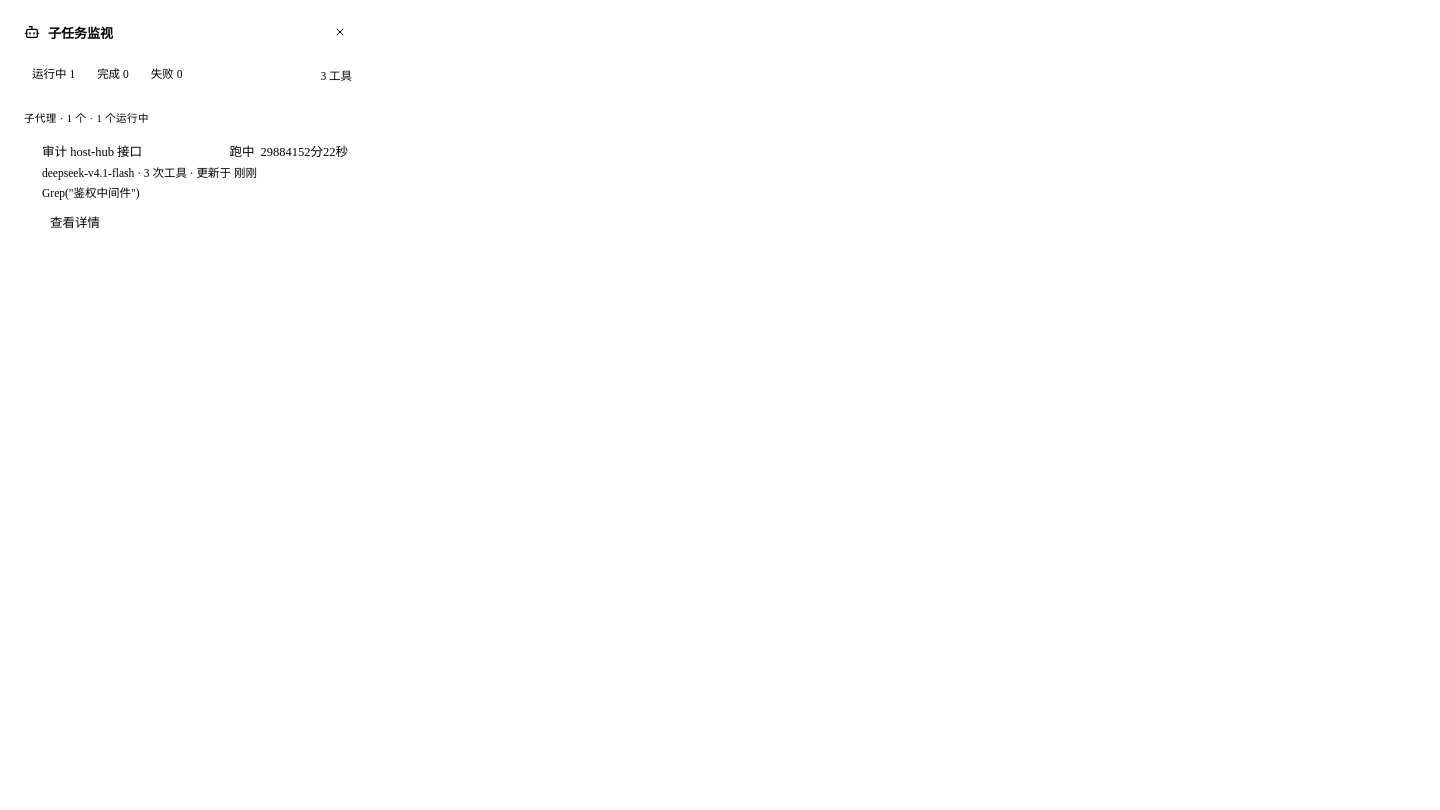
Test: 子任务监视面板 › 点一条打开运行情况弹窗
The image size is (1440, 810).
Click the button "审计 host-hub 接口" at (188, 172), box [24, 133, 352, 210]
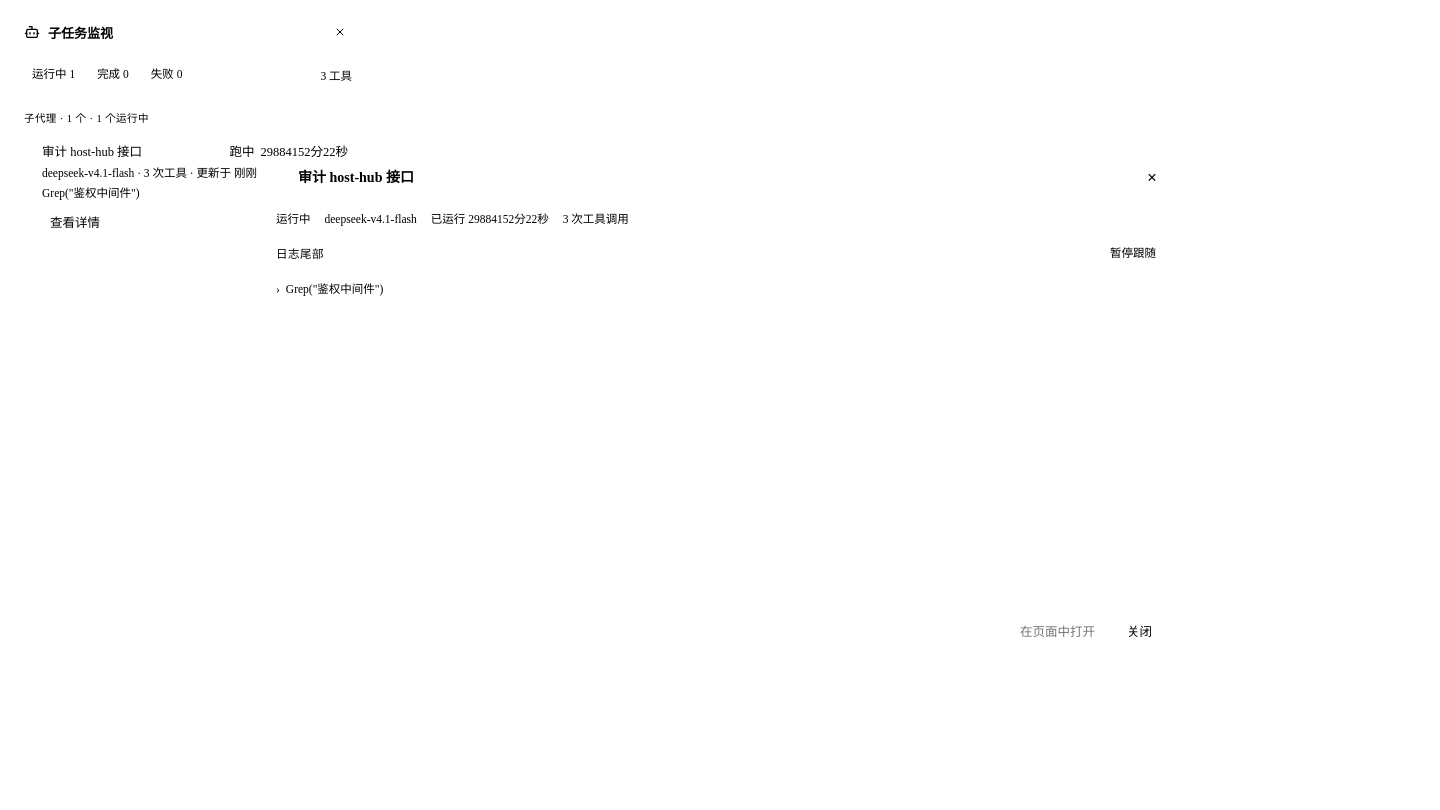
Check: the dialog is shown, box [260, 154, 1180, 656]
Check: the text "3 次工具调用" is shown, box [563, 210, 629, 228]
